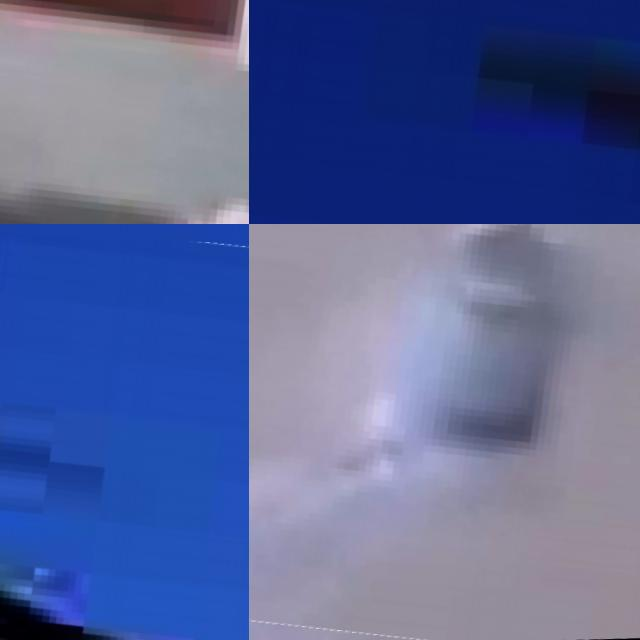0: (0, 224, 249, 640), (249, 0, 640, 224)
drone: (249, 224, 640, 640), (0, 0, 249, 224)
